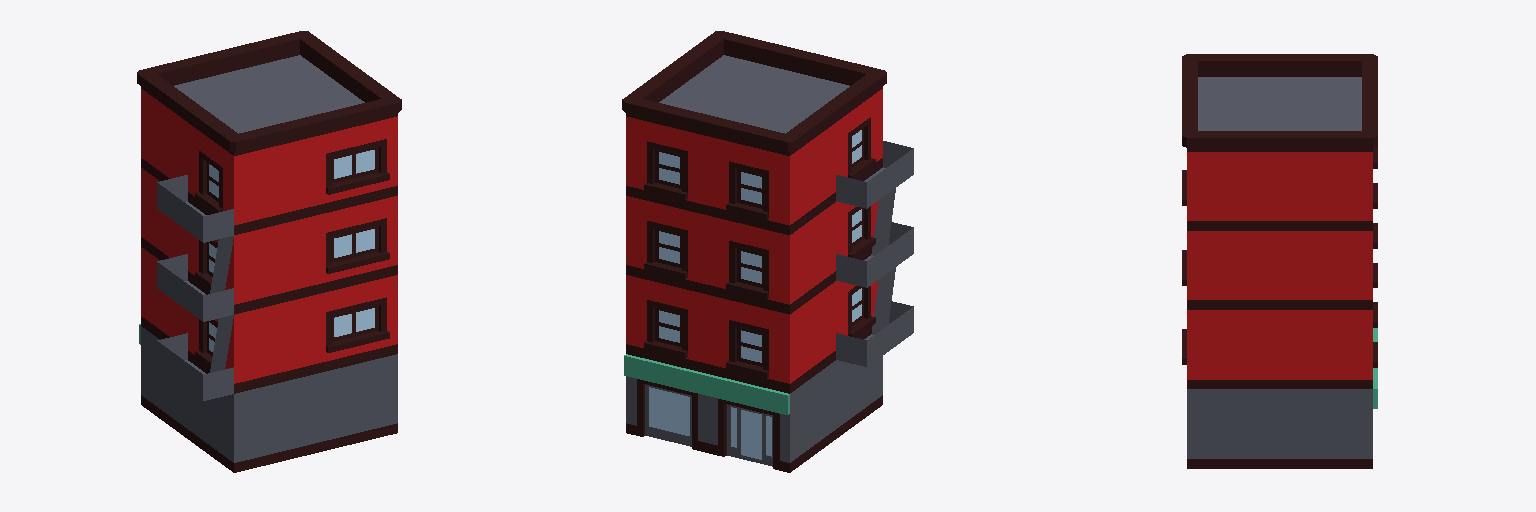
Rendered from insta_residential_brick_3.obj.
3 renders of one model, left to right at view 1: azimuth 30°, elevation 25°; view 2: azimuth 150°, elevation 25°; view 3: azimuth 270°, elevation 25°, orthographic.
Visible parts, largest first — view 1: city_residential_3__defaultMat(Clone), city_residential_3_door(Clone), city_residential_3_border(Clone), city_residential_3_window(Clone); view 2: city_residential_3__defaultMat(Clone), city_residential_3_border(Clone), city_residential_3_door(Clone), city_residential_3_window(Clone), city_residential_3_roof(Clone); view 3: city_residential_3__defaultMat(Clone), city_residential_3_door(Clone), city_residential_3_border(Clone).
Boxes of the visible parts, box(x1,y1,x2,y2) form: city_residential_3__defaultMat(Clone): box(141, 89, 397, 383); city_residential_3_door(Clone): box(141, 55, 397, 462); city_residential_3_border(Clone): box(137, 31, 401, 472); city_residential_3_window(Clone): box(209, 150, 374, 351); city_residential_3__defaultMat(Clone): box(626, 89, 882, 383); city_residential_3_border(Clone): box(622, 31, 886, 472); city_residential_3_door(Clone): box(626, 55, 913, 466); city_residential_3_window(Clone): box(649, 130, 861, 459); city_residential_3_roof(Clone): box(624, 354, 789, 414); city_residential_3__defaultMat(Clone): box(1187, 152, 1372, 379); city_residential_3_door(Clone): box(1187, 77, 1372, 458); city_residential_3_border(Clone): box(1182, 54, 1377, 468).
Bounding box in the file's own units: 0.6286 × 1.01 × 0.5376.